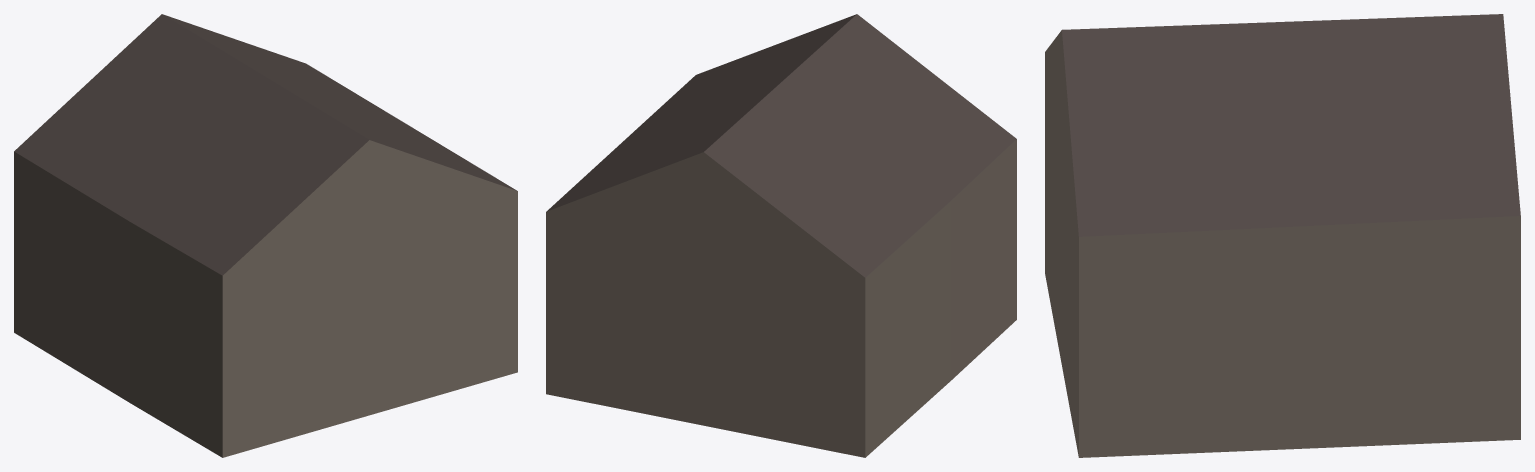
3 renders of one model, left to right at view 1: azimuth 30°, elevation 25°; view 2: azimuth 150°, elevation 25°; view 3: azimuth 270°, elevation 25°, orthographic. The views are drawn at different scales.
Visible parts, largest first — view 1: HP-w1512965886; view 2: HP-w1512965886; view 3: HP-w1512965886.
Boxes of the visible parts, left/top/right/bottom form: HP-w1512965886: left=14, top=14, right=517, bottom=457; HP-w1512965886: left=546, top=14, right=1016, bottom=457; HP-w1512965886: left=1045, top=14, right=1520, bottom=457.
Bounding box in the file's own units: 11.68 × 9.12 × 11.71.
